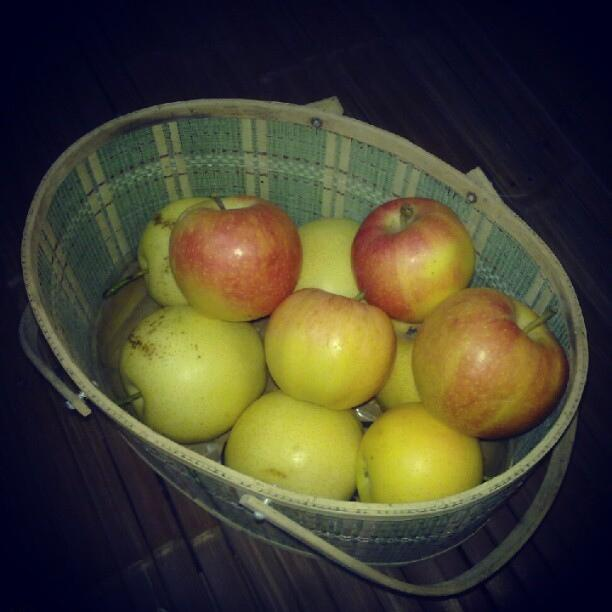apple: (412, 287, 570, 440), (114, 306, 268, 444), (168, 192, 304, 323), (264, 288, 397, 411), (225, 388, 366, 501), (353, 196, 477, 323), (355, 402, 483, 504), (103, 197, 214, 308), (293, 219, 368, 305), (375, 317, 423, 414)
